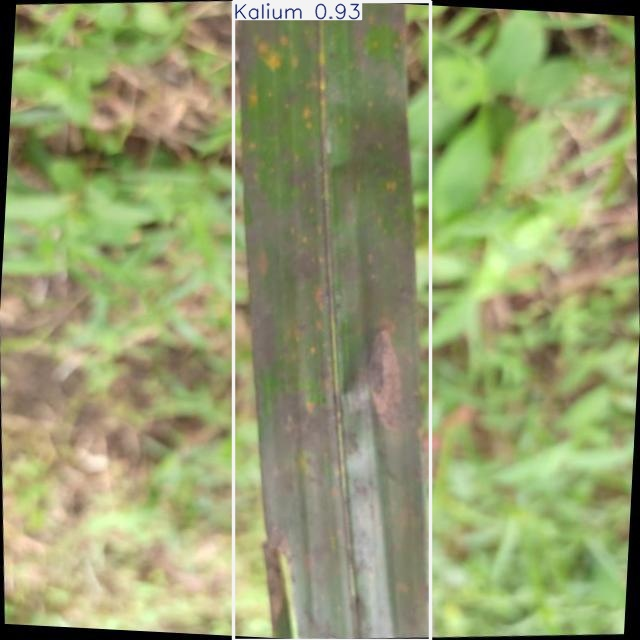Kalium: (234, 2, 431, 640)
